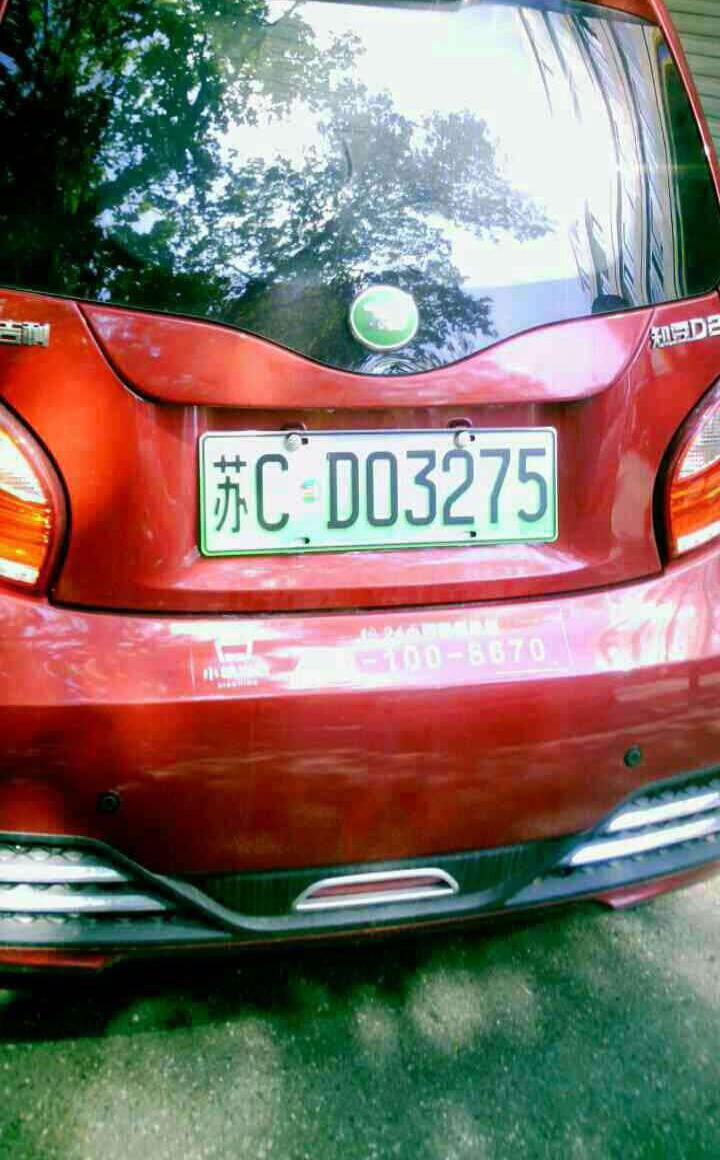car_id: (197, 428, 563, 546)
